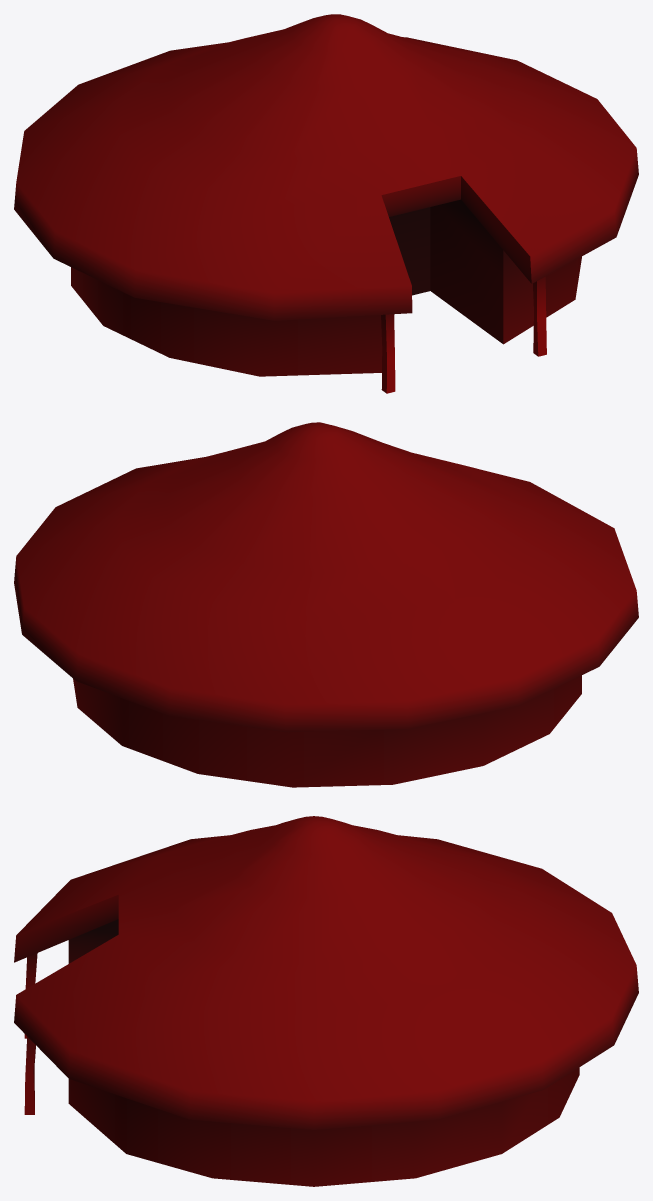
The model's file is buildings-historical-roundhouse_v4.fbx.
The picture shows the model from 3 angles, top to bottom: view 1: azimuth 30°, elevation 25°; view 2: azimuth 150°, elevation 25°; view 3: azimuth 270°, elevation 25°; orthographic projection. The views are drawn at different scales.
Parts seen in each view (by area): view 1: Roundhouse_v4; view 2: Roundhouse_v4; view 3: Roundhouse_v4.
Part boxes in pixels (<box>): Roundhouse_v4: <box>14,14,638,393</box>; Roundhouse_v4: <box>14,422,638,787</box>; Roundhouse_v4: <box>14,816,638,1186</box>.
Bounding box in the file's own units: 11.87 × 5.19 × 11.42.
